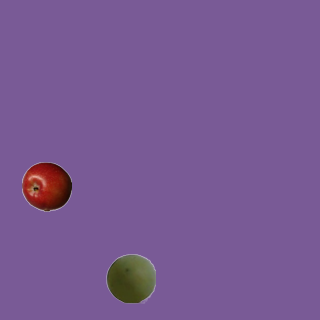Apple Braeburn: (21, 161, 71, 211)
Grape White 4: (105, 253, 155, 303)
